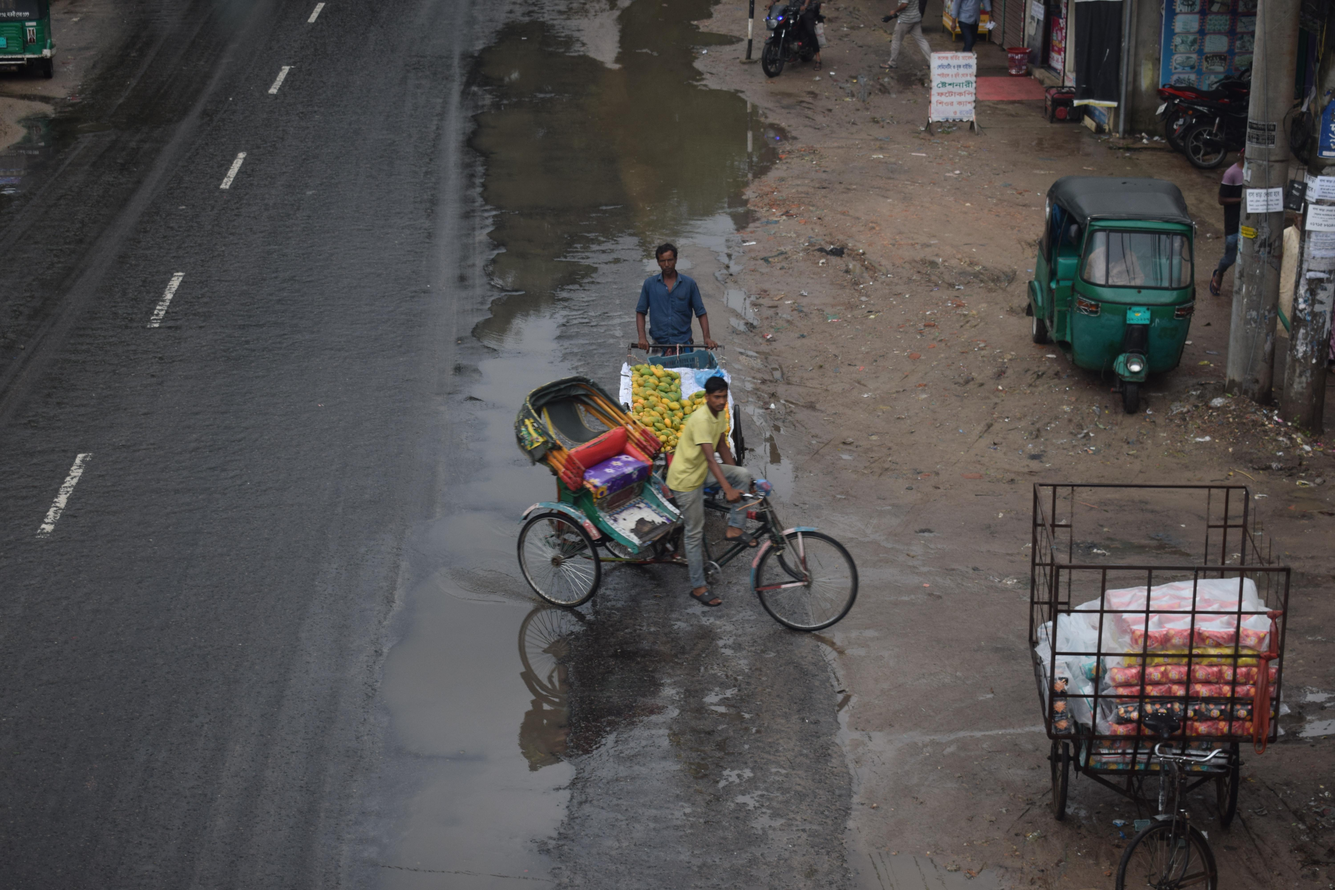Car: (453, 346, 893, 698)
